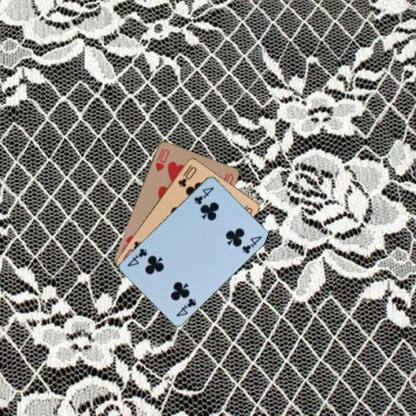10c: (175, 162, 198, 188)
10h: (152, 145, 170, 172)
4c: (191, 184, 216, 206), (174, 295, 198, 317)
